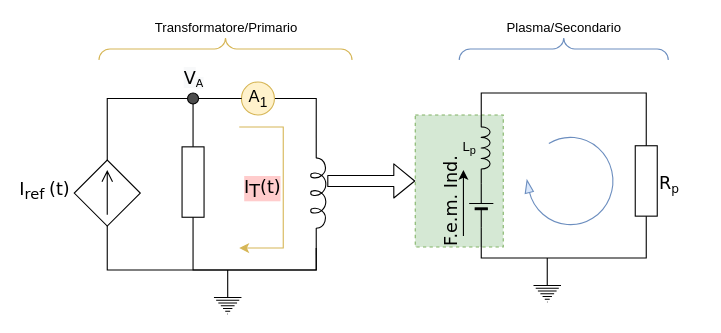
This 721x333 diagram has some shape labels left out. Each missing label, with the centre of its shape:
I p: pixel 568 180
L T: pixel 318 192
R T: pixel 192 181
